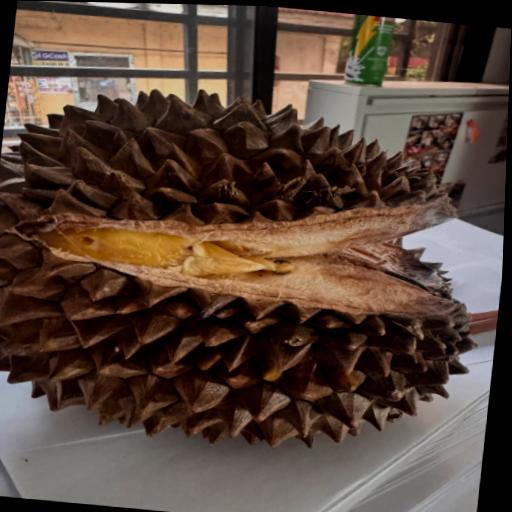rot: (0, 57, 510, 512)
